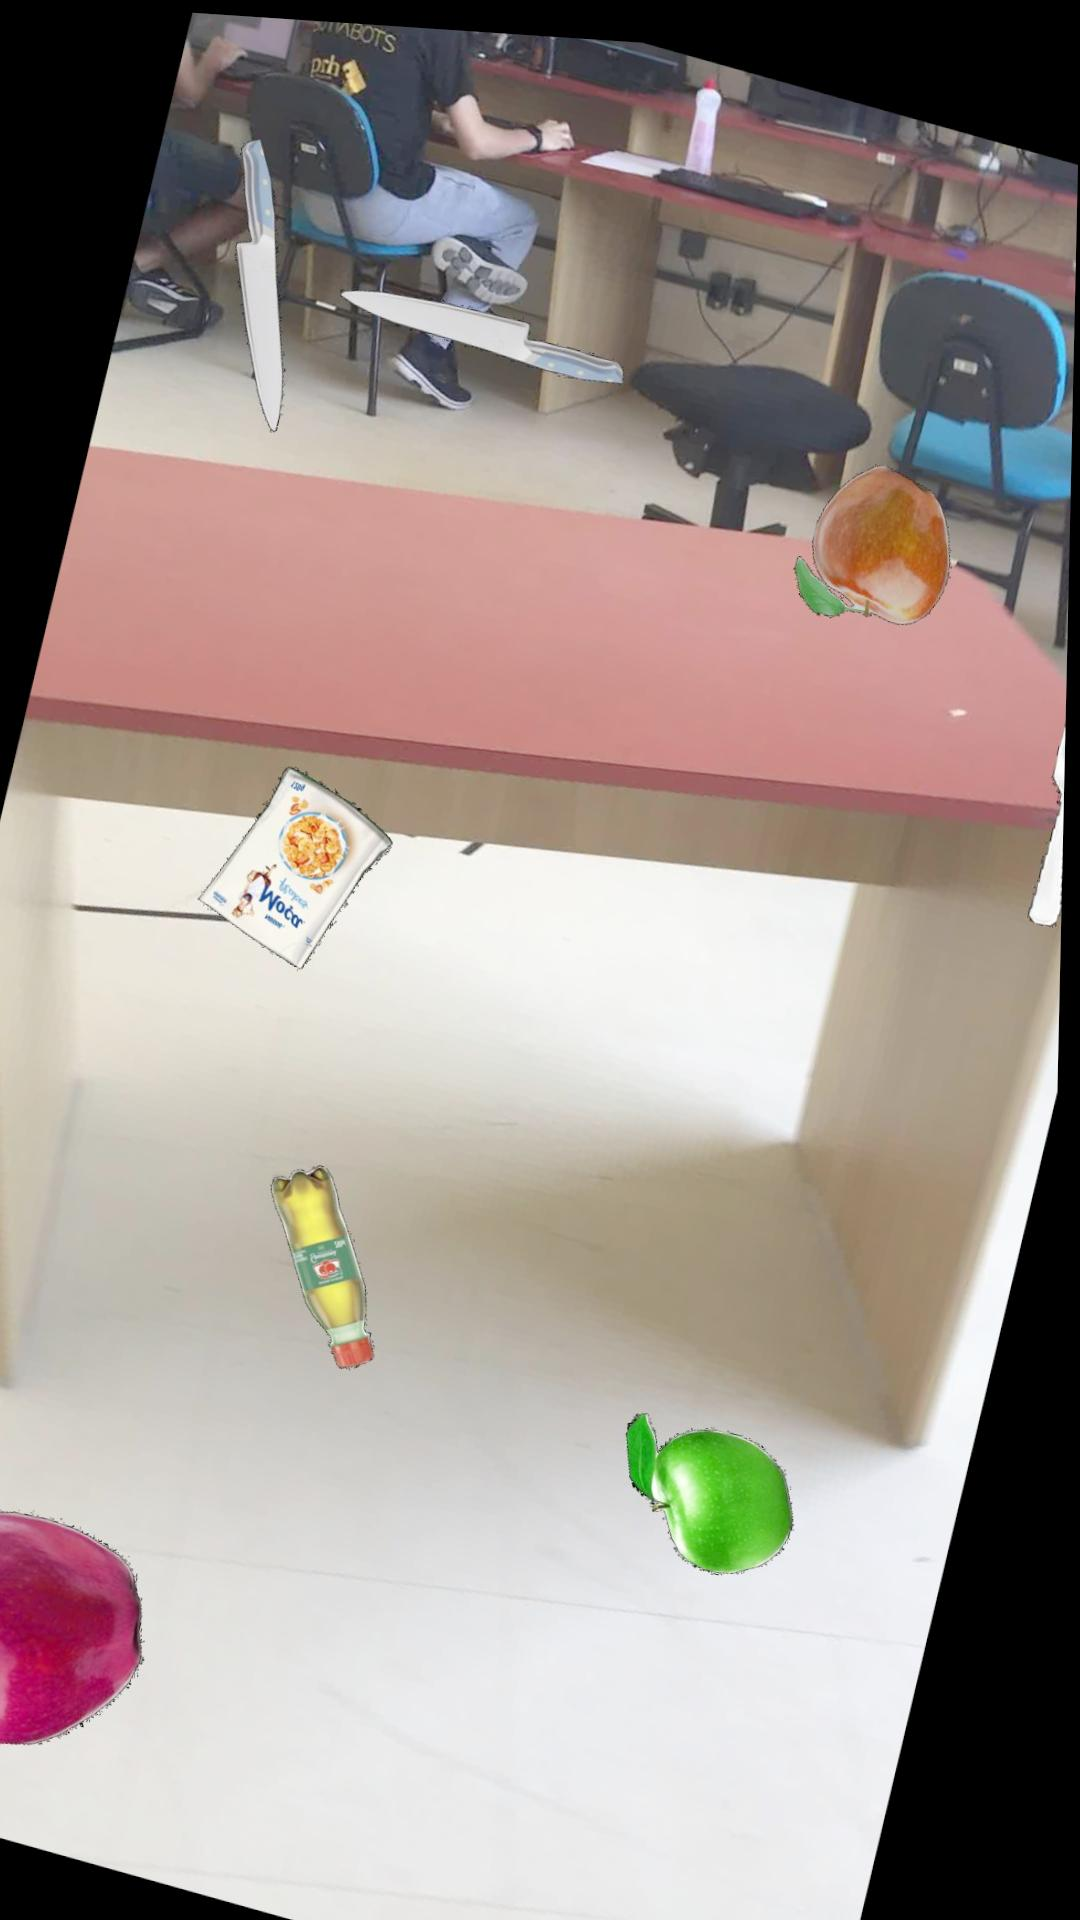apple: (0, 1509, 150, 1742), (794, 451, 951, 611)
corn flakes: (200, 761, 394, 963)
fork: (1030, 696, 1069, 910)
green apple: (630, 1402, 799, 1561)
guarana: (274, 1159, 378, 1362)
knife: (340, 284, 624, 373), (235, 133, 284, 426)
